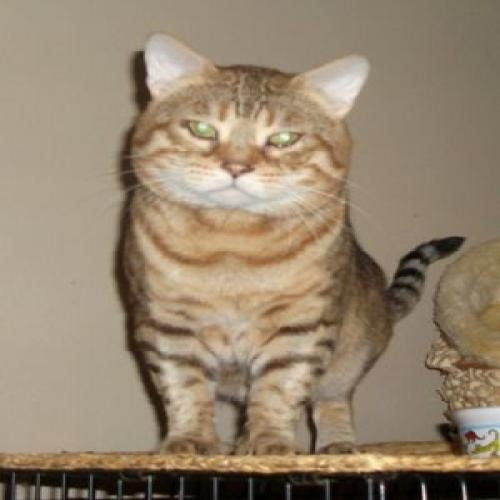bengal: (113, 26, 375, 230)
